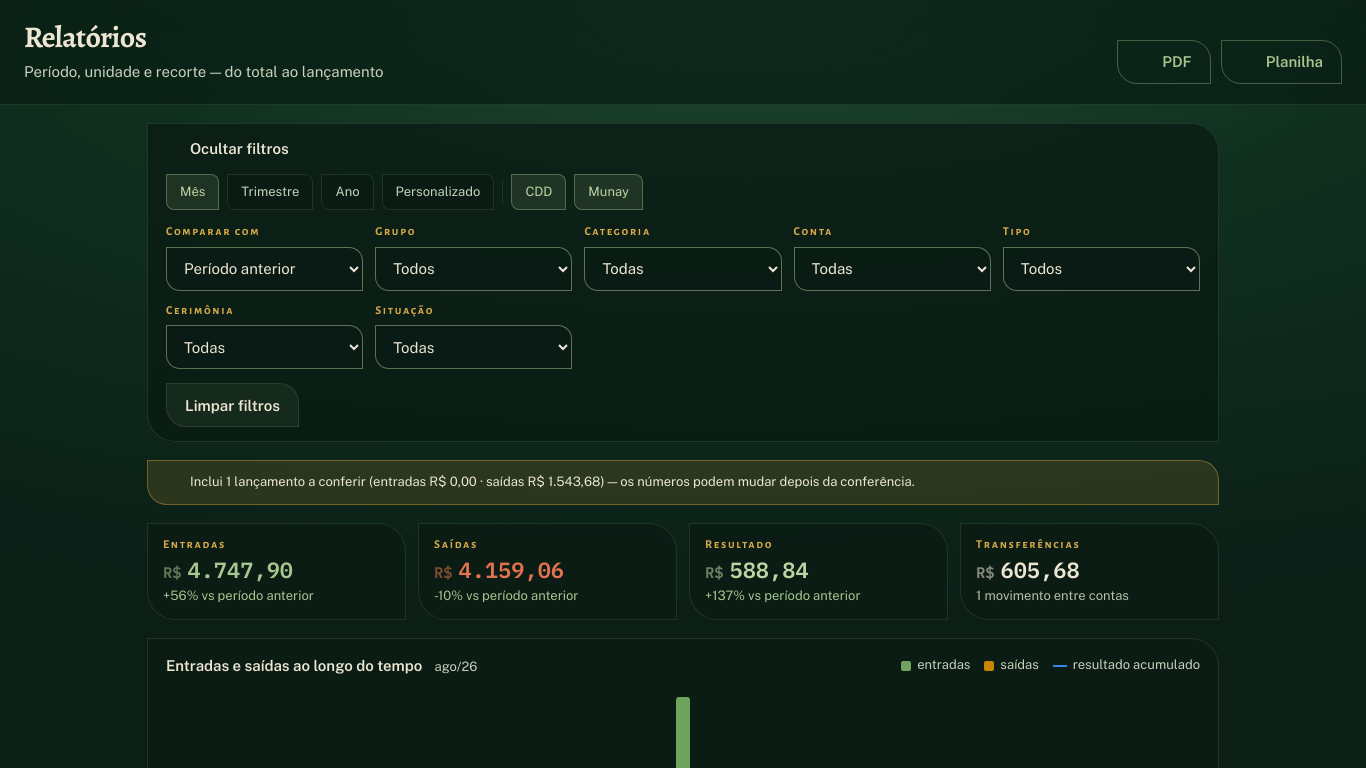
Scenario: RelatoriosPage: indicadores do mês de agosto de 2026 contra o período anterior › trimestre — os indicadores passam a somar junho, julho e agosto
The image size is (1366, 768).
Click the button "Trimestre" at (270, 192), box [227,174,313,210]
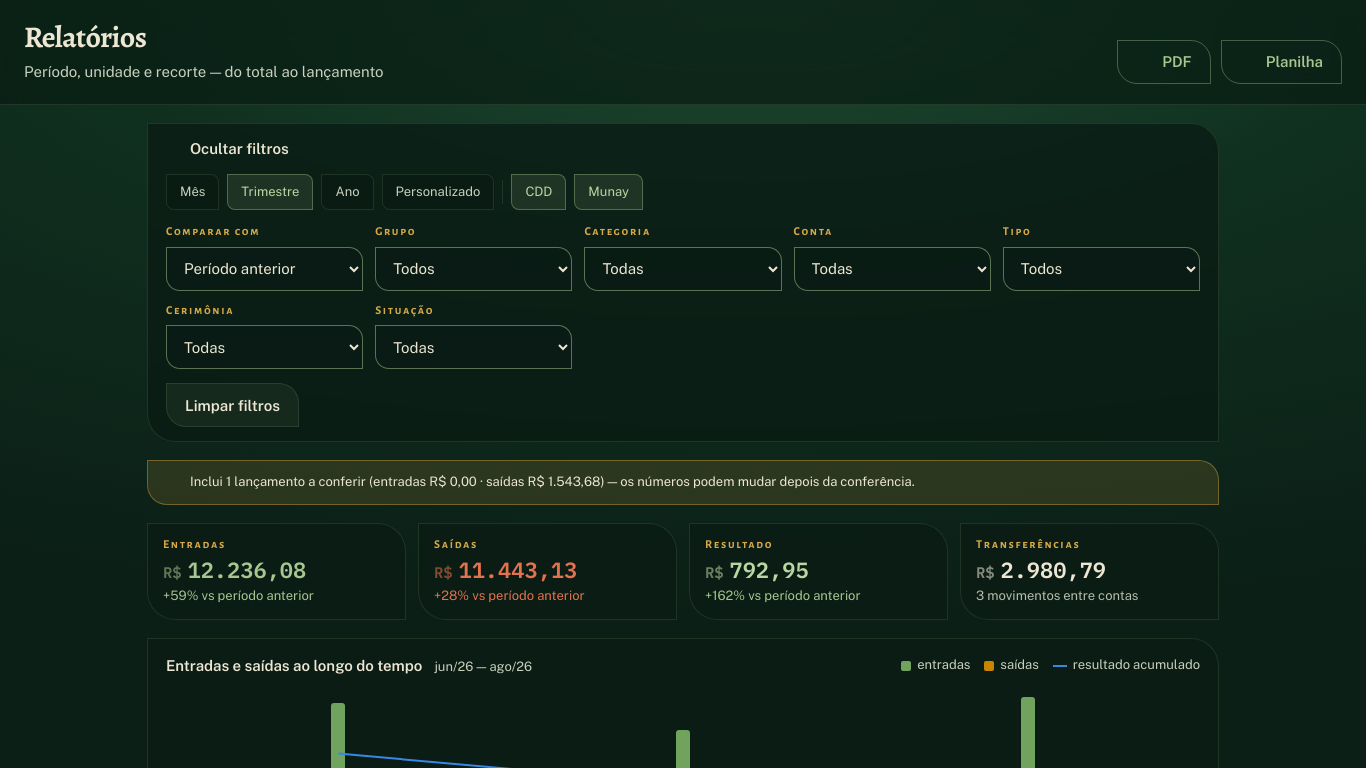
Expected: the text "3 movimentos entre contas" is shown, [976,588,1138,603]
